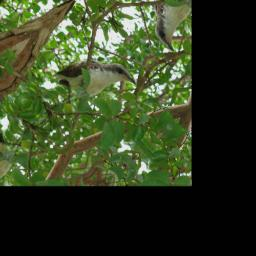Cuckoo: (50, 36, 138, 122)
